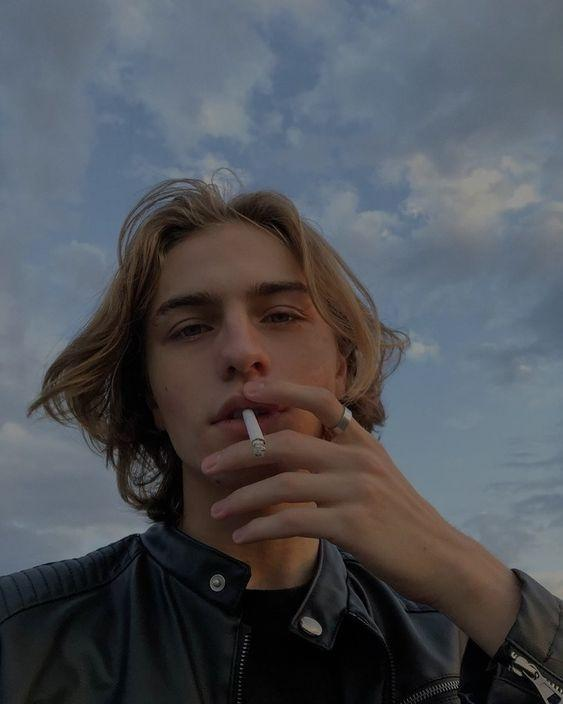cigarette: (241, 408, 267, 458)
